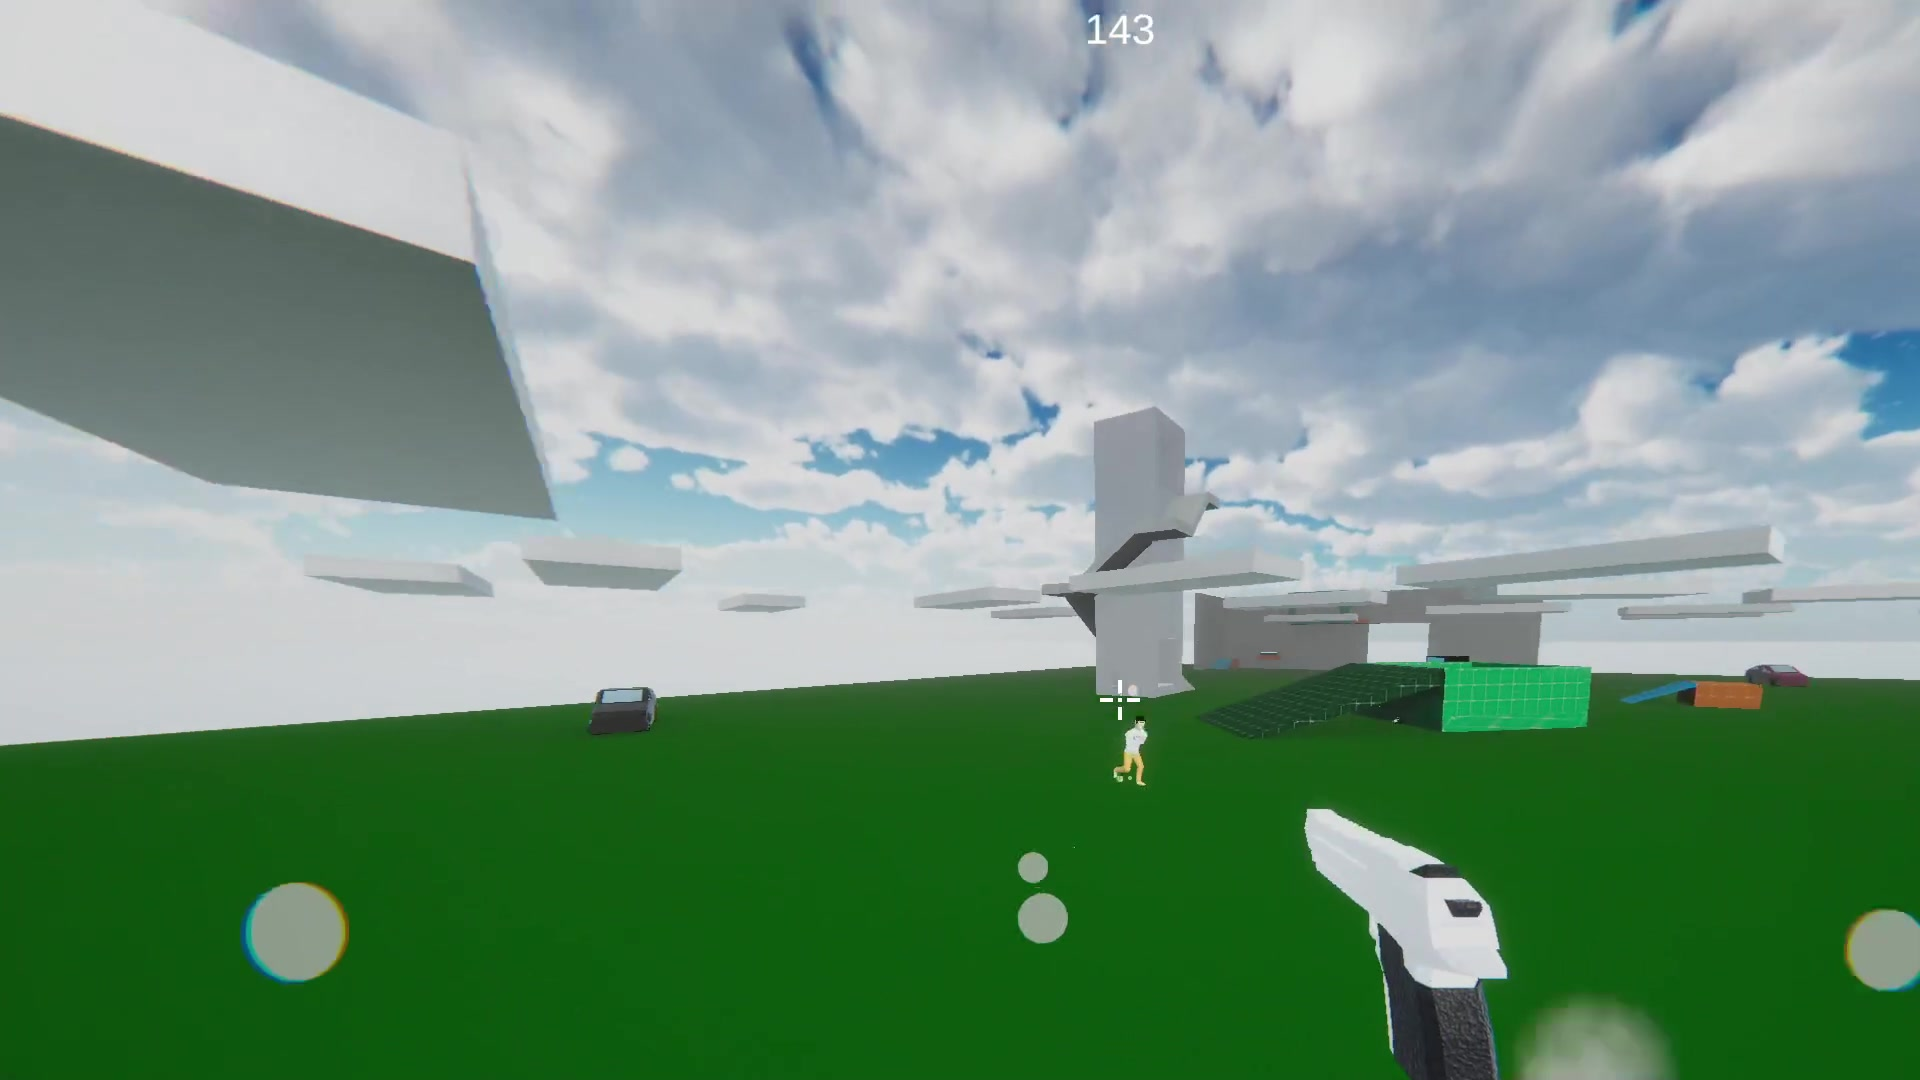human: (1120, 716, 1148, 790)
